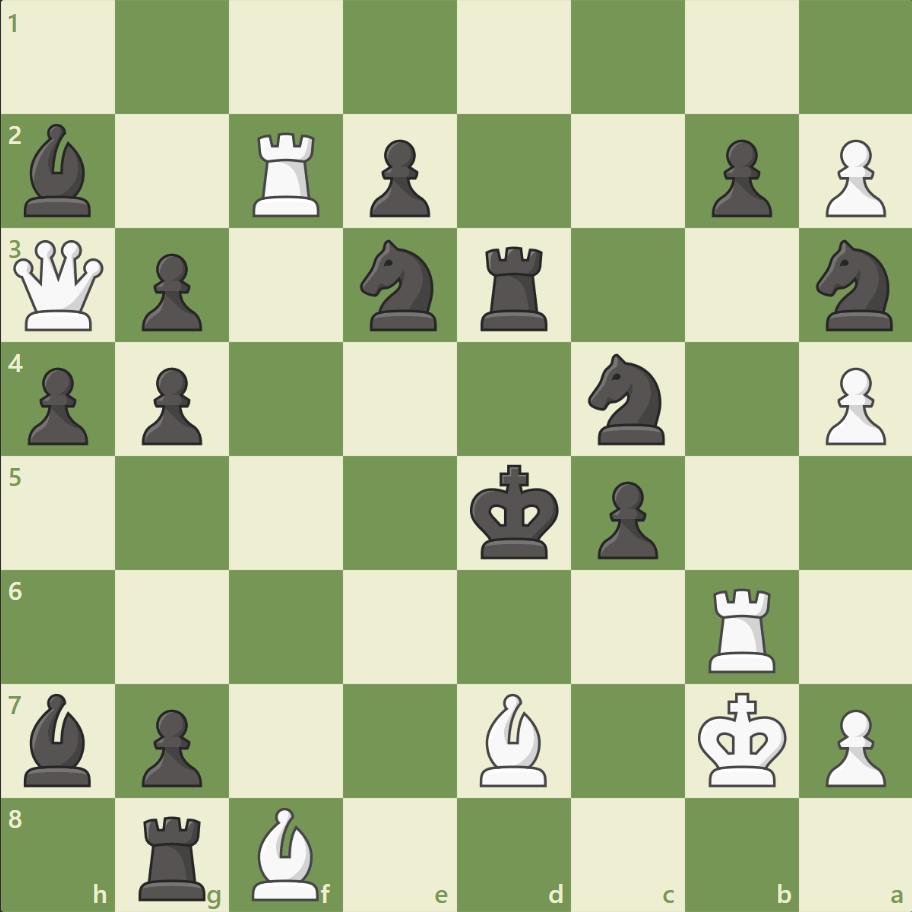B: (244, 801, 328, 904), (471, 687, 555, 790)
K: (692, 685, 792, 793)
P: (815, 700, 889, 791), (815, 359, 889, 450), (815, 132, 889, 223)
Q: (10, 236, 109, 335)
R: (700, 579, 783, 676), (246, 125, 329, 222)
b: (17, 687, 101, 790), (17, 120, 101, 222)
k: (465, 458, 565, 566)
n: (351, 234, 449, 337), (806, 234, 903, 337), (579, 348, 676, 450)
p: (133, 700, 208, 791), (133, 359, 208, 450), (20, 359, 95, 450), (133, 246, 208, 337), (701, 132, 776, 223), (588, 473, 662, 564), (361, 132, 435, 223)
r: (473, 239, 556, 336), (133, 806, 215, 904)
